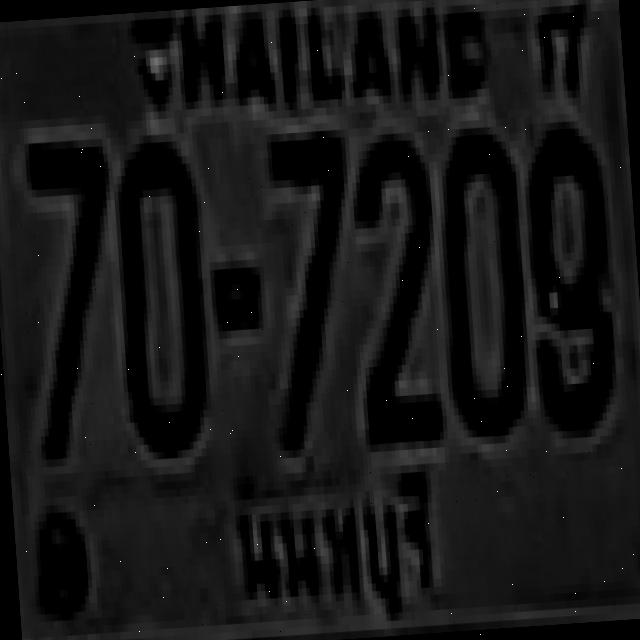0: (106, 132, 210, 454), (429, 118, 528, 431)
2: (344, 124, 443, 437)
7: (257, 118, 357, 447), (22, 130, 122, 452)
9: (516, 112, 614, 425)
Nonthaburi: (224, 457, 452, 640)
